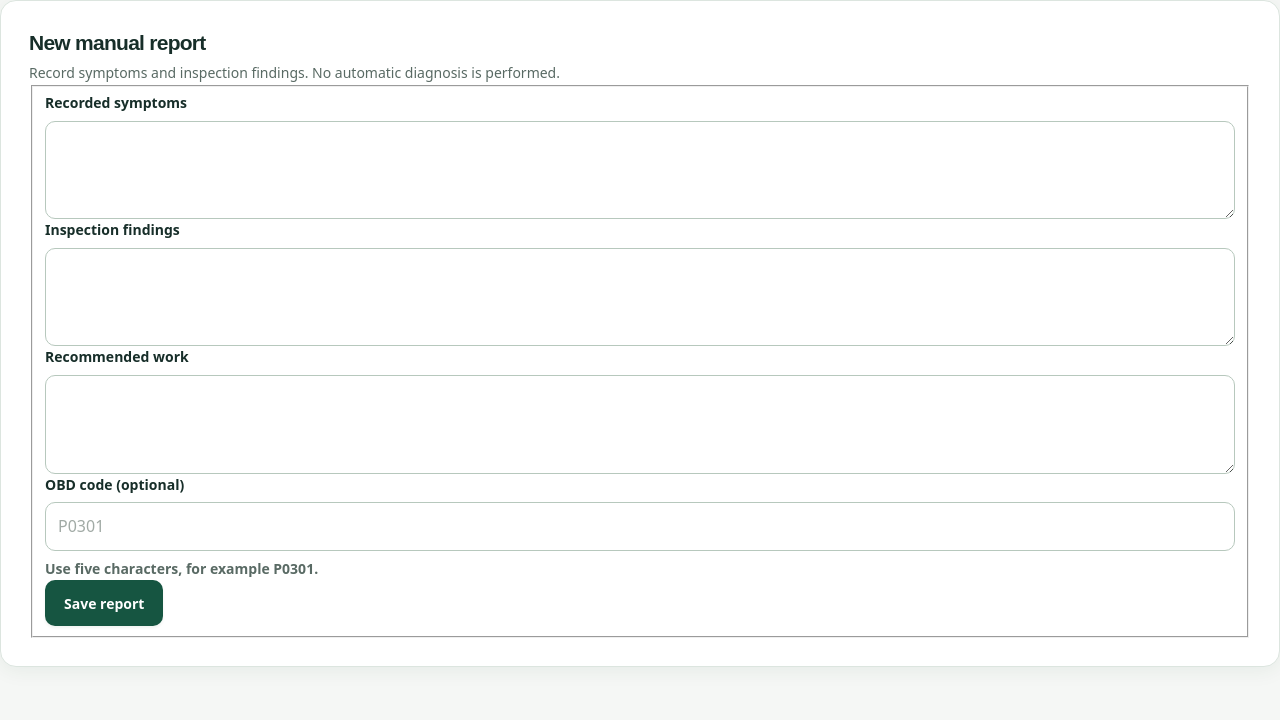
Test: warns before closing a dirty form and removes the warning after saving
The image size is (1280, 720).
Type "Noise" into the text box labelled "Recorded symptoms" at (640, 170), box [45,121,1235,219]
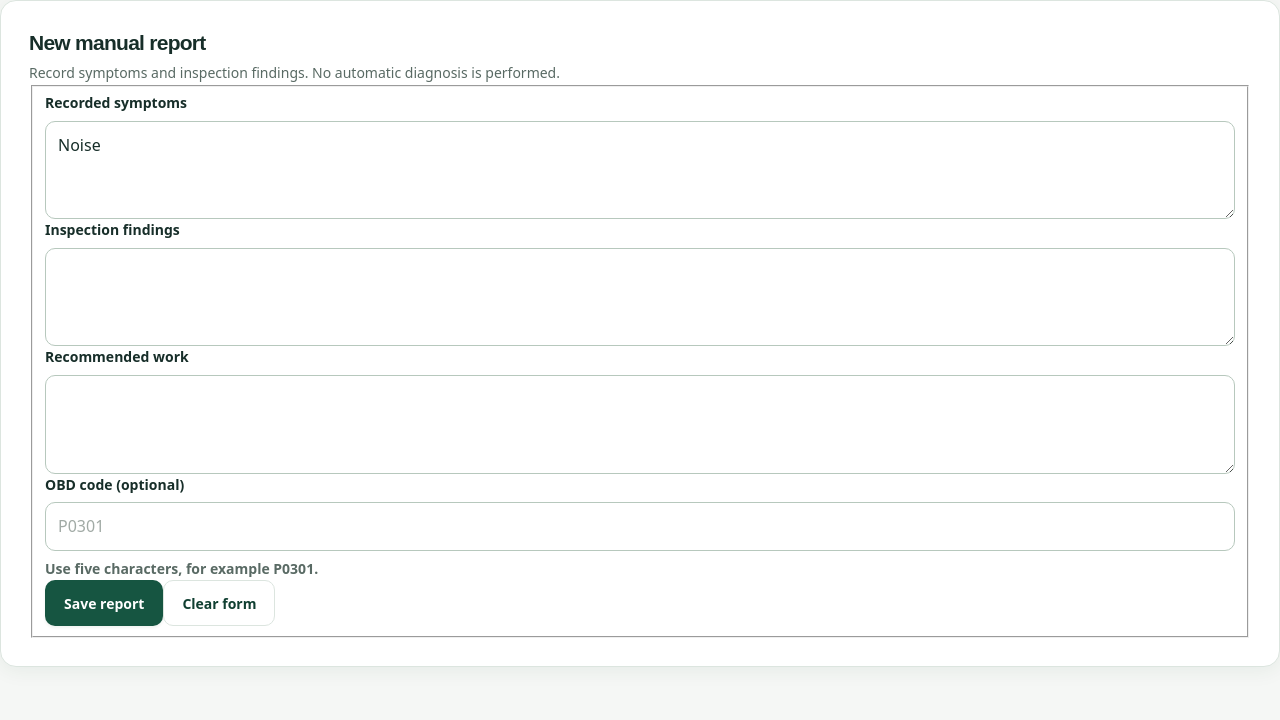
Type "Inspection needed" into the text box labelled "Inspection findings" at (640, 297), box [45,248,1235,346]
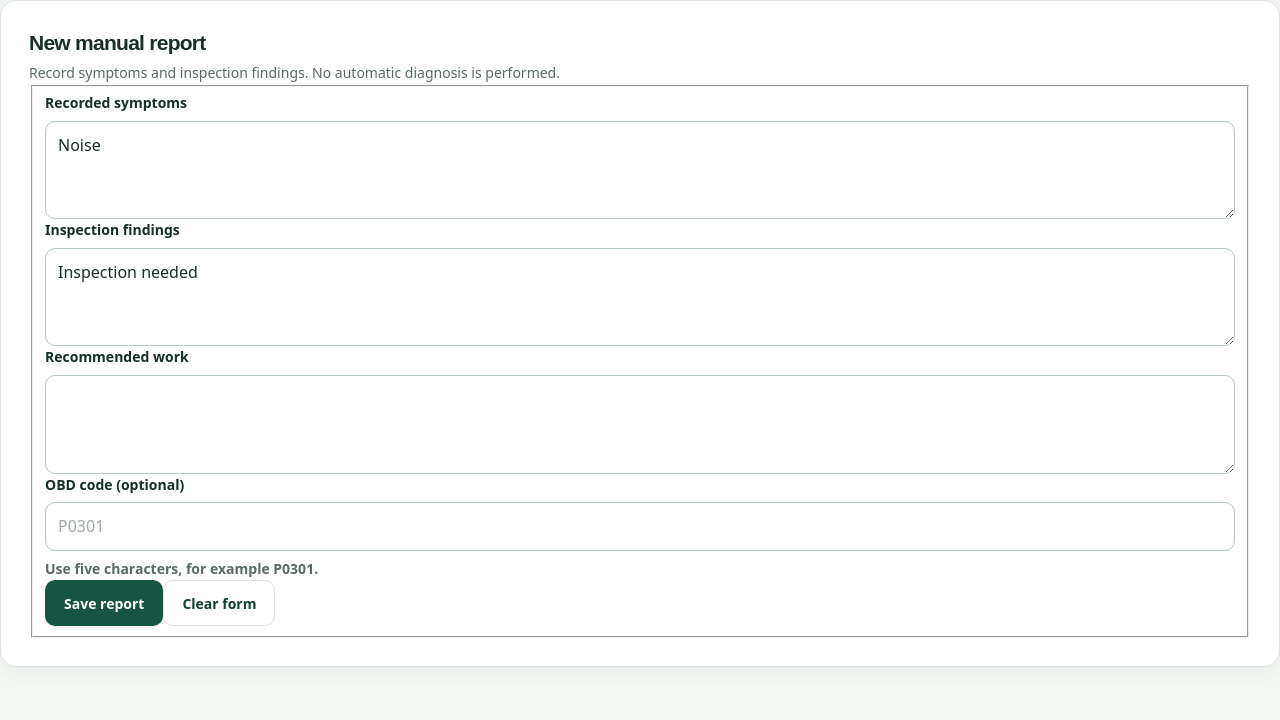
Click the button "Save report" at (104, 603), box [45,580,163,626]
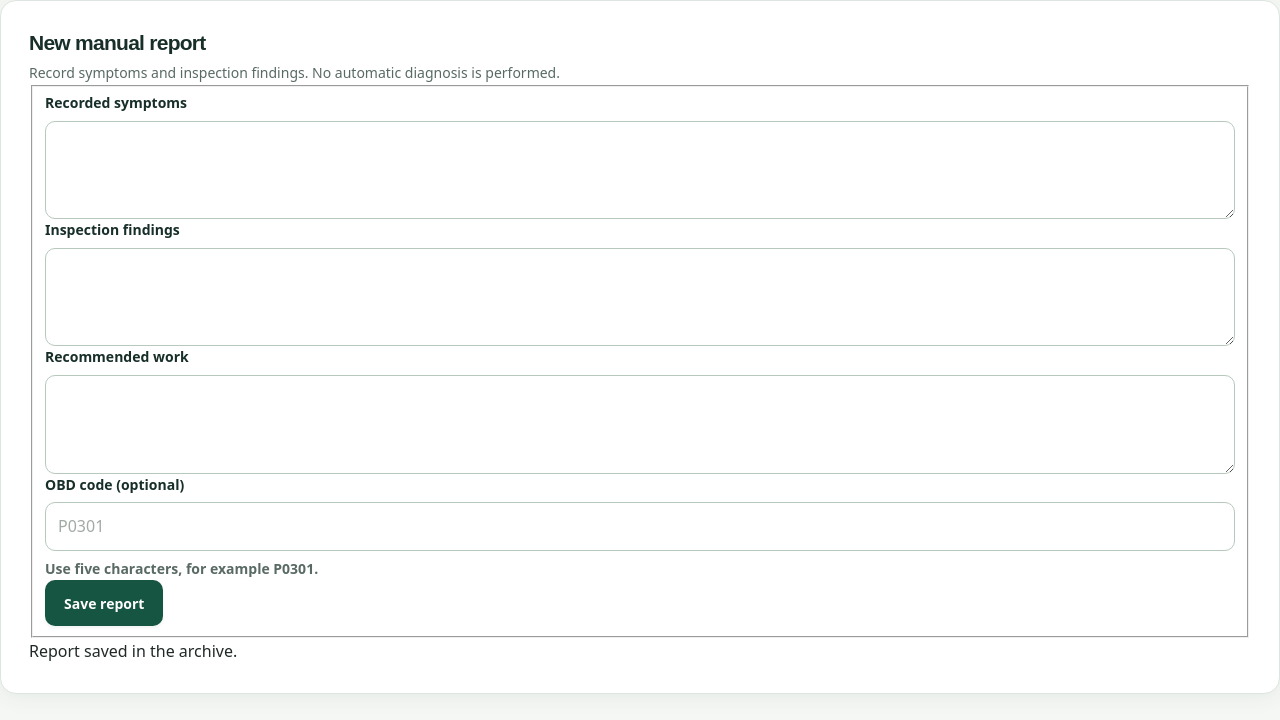
Now the text "Report saved in the archive." is shown, box [29,640,237,662]
